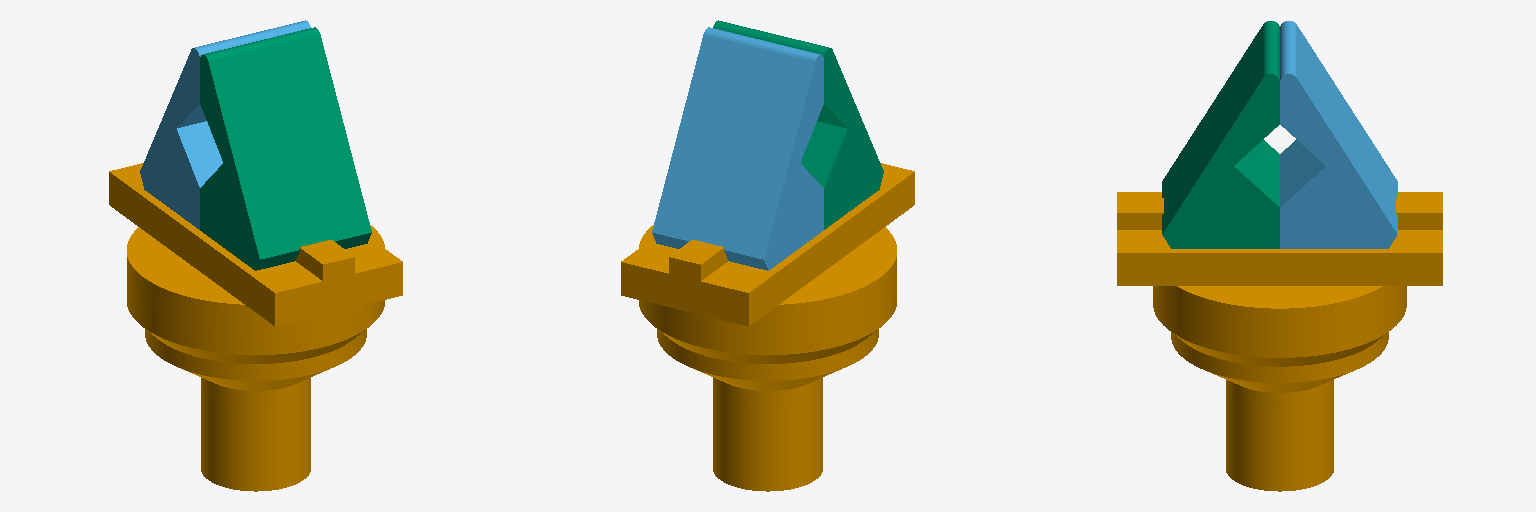
The robot description file, URDF, robot "pjm_diamond":
<?xml version="1.0" ?>
<robot name="pjm_diamond">


  <link name="pjm">
  <!-- IEEM -->
    <visual>
      <origin rpy="0 0 0" xyz="0 0 0"/>
      <geometry>
        <mesh filename="package://meshes/IEEM.obj" scale="0.001 0.001 0.001"/>
      </geometry>
    </visual>
    <collision>
      <origin rpy="0 0 0" xyz="0 0 0"/>
      <geometry>
        <mesh filename="package://meshes/IEEM.obj" scale="0.001 0.001 0.001"/>
      </geometry>
    </collision>

  <!-- Gripper Base -->
    <visual>
      <origin rpy="0 0 0" xyz="0 0 0.03"/>
      <geometry>
        <mesh filename="package://meshes/gripper_base.obj" scale="0.001 0.001 0.001"/>
      </geometry>
    </visual>
    <collision>
      <origin rpy="0 0 0" xyz="0 0 0.03"/>
      <geometry>
        <mesh filename="package://meshes/gripper_base.obj" scale="0.001 0.001 0.001"/>
      </geometry>
    </collision>

  </link>

  <!-- Left mandible -->
  <link name="lm">
    <visual>
      <origin rpy="-1.57079632679 0 0" xyz="-0.0175 0.075 0"/>
      <geometry>
        <mesh filename="package://meshes/diamond_claw.obj" scale="0.001 0.001 0.001"/>
      </geometry>
    </visual>
    <collision>
      <origin rpy="-1.57079632679 0 0" xyz="-0.0175 0.075 0"/>
      <geometry>
        <mesh filename="package://meshes/diamond_claw.obj" scale="0.001 0.001 0.001"/>
      </geometry>
    </collision>
  </link>
  <joint name="lm" type="prismatic">
    <parent link="pjm"/>
    <child link="lm"/>
    <origin xyz="0 0 0" rpy= "1.57079632679 0 0"/>
    <axis xyz="0 0 1"/>
    <limit effort="1000" velocity="1000" lower="-0.03" upper="0" />
  </joint>

  <!-- Right mandible -->
  <link name="rm">
    <visual>
      <origin rpy="-1.57079632679 3.14159265359 0" xyz="0.0175 0.075 0"/>
      <geometry>
        <mesh filename="package://meshes/diamond_claw.obj" scale="0.001 0.001 0.001"/>
      </geometry>
    </visual>
    <collision>
      <origin rpy="-1.57079632679 3.14159265359 0" xyz="0.0175 0.075 0"/>
      <geometry>
        <mesh filename="package://meshes/diamond_claw.obj" scale="0.001 0.001 0.001"/>
      </geometry>
    </collision>
  </link>
  <joint name="rm" type="prismatic">
    <parent link="pjm"/>
    <child link="rm"/>
    <origin xyz="0 0 0" rpy= "1.57079632679 0 0"/>
    <axis xyz="0 0 1"/>
    <limit effort="1000" velocity="1000" lower="0" upper="0.03" />
  </joint>

</robot>

--- Render facts (derived) ---
Views: 3 orthographic renders of the robot side by side, from view 1: azimuth 30°, elevation 25°; view 2: azimuth 150°, elevation 25°; view 3: azimuth 270°, elevation 25°.
Robot: pjm_diamond — 3 links, 2 joints (2 prismatic); root link pjm; default pose: every joint at zero.
Visible links, largest first — view 1: pjm, rm, lm; view 2: pjm, lm, rm; view 3: pjm, lm, rm.
Link boxes in pixels (bbox=[...]): pjm: bbox=[109, 163, 402, 491]; rm: bbox=[200, 27, 371, 270]; lm: bbox=[140, 20, 310, 229]; pjm: bbox=[621, 163, 914, 491]; lm: bbox=[652, 27, 823, 270]; rm: bbox=[713, 20, 883, 229]; pjm: bbox=[1117, 192, 1442, 491]; lm: bbox=[1280, 21, 1397, 248]; rm: bbox=[1162, 21, 1279, 248].
Size in the robot's own frame: 0.07 by 0.09 by 0.1283 metres.
4 mesh visuals loaded from 3 distinct referenced files (3 OBJ).
